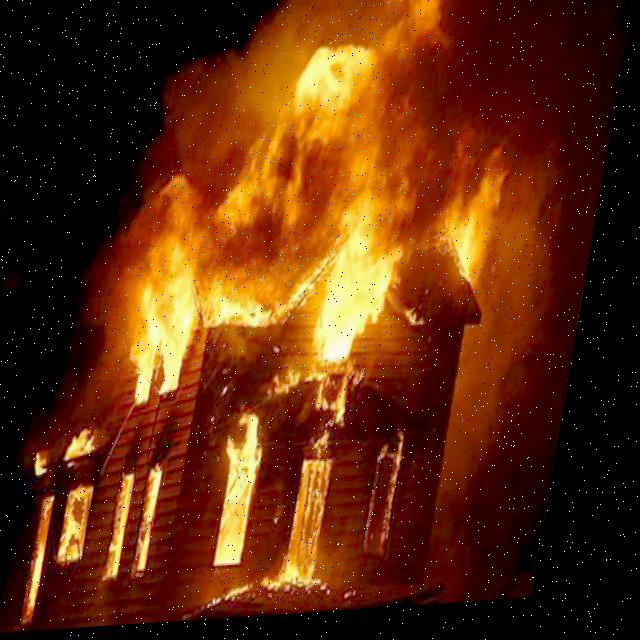Fire: (125, 34, 538, 402), (300, 392, 368, 594), (226, 408, 280, 572), (39, 493, 75, 622), (150, 459, 182, 580), (74, 484, 112, 562), (124, 472, 152, 576), (78, 426, 115, 468), (44, 447, 68, 479)
